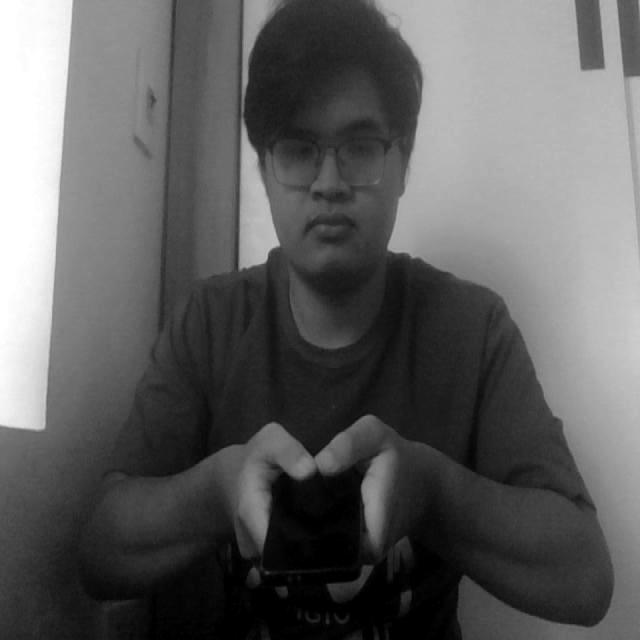phone: (243, 430, 379, 594)
